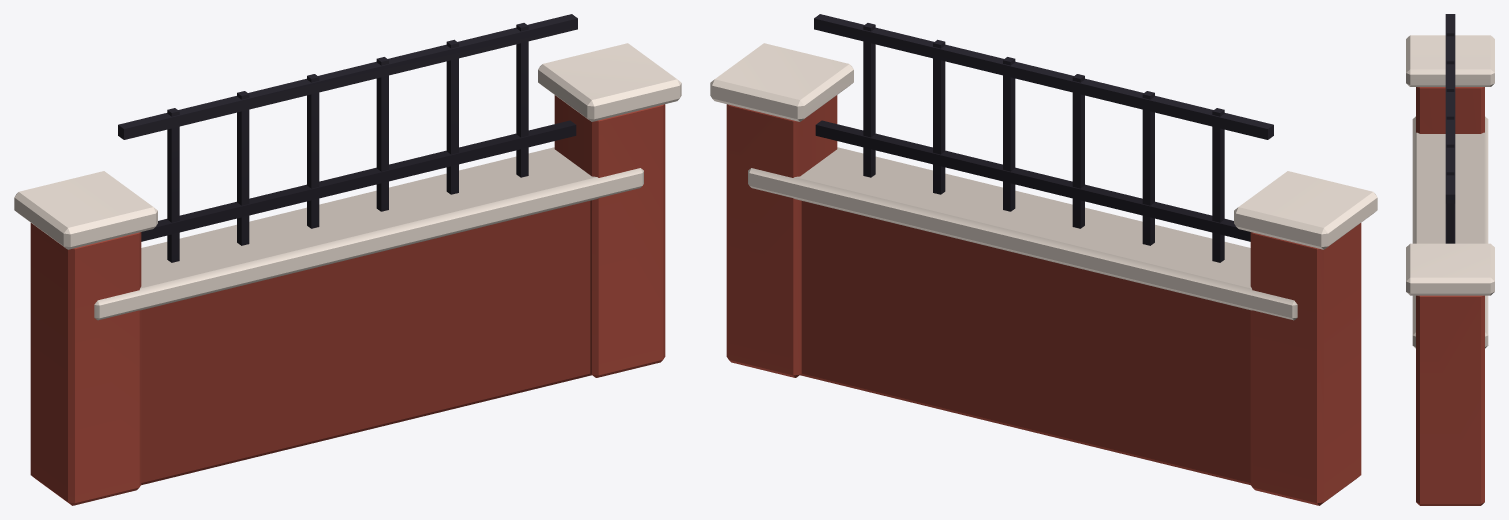
3 views of the same model, side by side, from view 1: azimuth 30°, elevation 25°; view 2: azimuth 150°, elevation 25°; view 3: azimuth 270°, elevation 25° (orthographic). The views are drawn at different scales.
Parts seen in each view (by area): view 1: body_pal_brick, body_pal_picketWhite, body_pal_uiDark; view 2: body_pal_brick, body_pal_picketWhite, body_pal_uiDark; view 3: body_pal_brick, body_pal_picketWhite, body_pal_uiDark.
Boxes of the visible parts, <box> form: body_pal_brick: <box>30,95,665,505</box>; body_pal_picketWhite: <box>14,43,681,320</box>; body_pal_uiDark: <box>118,14,577,262</box>; body_pal_brick: <box>726,95,1361,505</box>; body_pal_picketWhite: <box>710,43,1377,320</box>; body_pal_uiDark: <box>814,14,1273,262</box>; body_pal_brick: <box>1416,87,1484,505</box>; body_pal_picketWhite: <box>1406,35,1494,348</box>; body_pal_uiDark: <box>1445,14,1455,243</box>.
Bounding box in the file's own units: 3.54 × 1.93 × 0.54.
